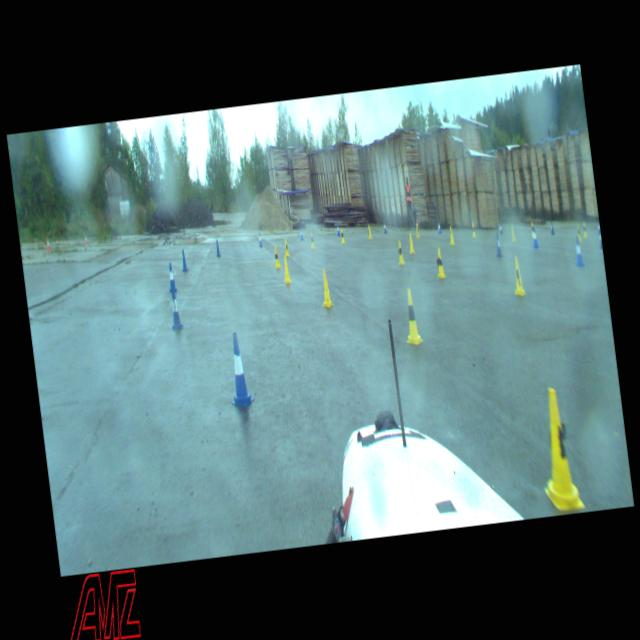blue_cone: (223, 330, 255, 408), (168, 291, 182, 331), (572, 235, 584, 268), (166, 262, 176, 292), (494, 233, 503, 258), (180, 249, 188, 272), (531, 227, 538, 248), (214, 238, 221, 256), (256, 230, 262, 248), (335, 222, 341, 236), (436, 218, 441, 234), (548, 221, 554, 234), (299, 226, 304, 240), (382, 220, 387, 234), (598, 234, 602, 251), (498, 222, 502, 234), (596, 222, 600, 234)
orange_cone: (45, 236, 50, 251), (84, 232, 88, 245)
yellow_cone: (532, 387, 584, 515), (400, 286, 422, 346), (509, 255, 526, 297), (318, 267, 333, 308), (434, 247, 446, 280), (281, 256, 291, 284), (395, 239, 405, 265), (282, 235, 290, 258), (408, 232, 416, 254), (272, 246, 280, 268), (308, 231, 315, 249), (448, 226, 454, 246), (509, 222, 515, 242), (470, 220, 476, 238), (414, 221, 420, 239), (528, 220, 534, 238), (576, 224, 582, 242), (339, 227, 345, 244), (366, 223, 372, 239), (582, 218, 586, 238)
